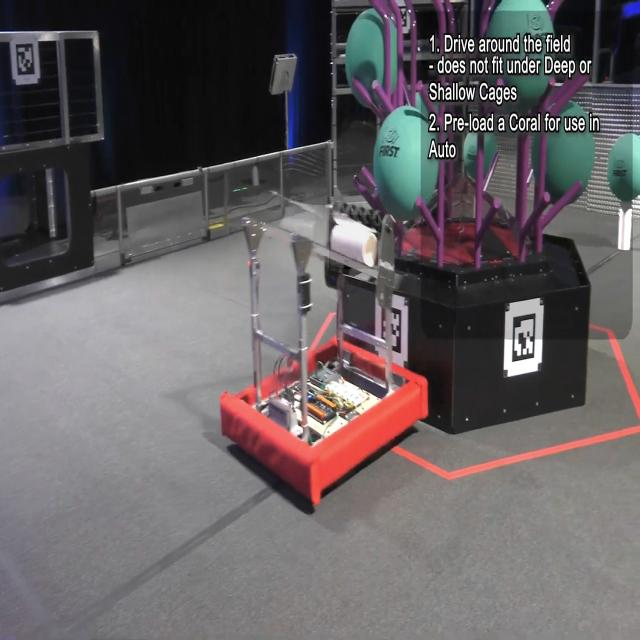Coral: (329, 215, 378, 269), (618, 209, 632, 250)
